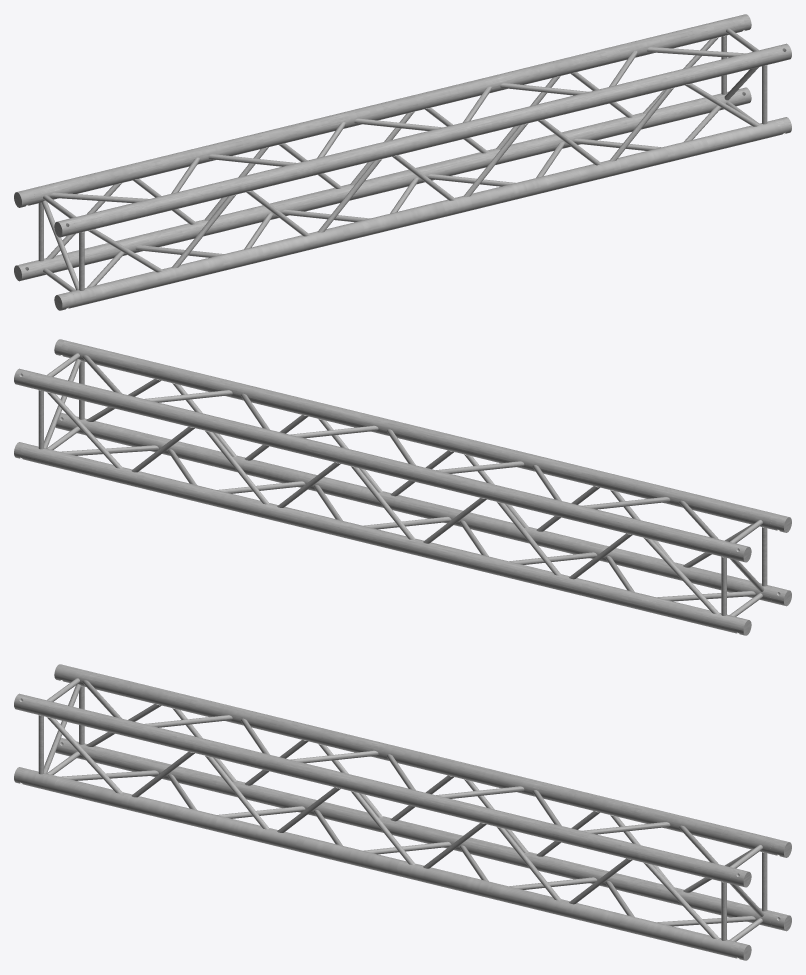
File: Milos_M290V_2500_Quattro_Truss_section-5ea367fc.glb
3 renders of one model, top to bottom at view 1: azimuth 30°, elevation 25°; view 2: azimuth 150°, elevation 25°; view 3: azimuth 330°, elevation 25°, orthographic.
Visible parts, largest first — view 1: Geom3D; view 2: Geom3D; view 3: Geom3D.
Boxes of the visible parts, box(x1,y1,x2,y2) form: Geom3D: box(14, 14, 791, 310); Geom3D: box(14, 339, 791, 635); Geom3D: box(14, 664, 791, 960).
Bounding box in the file's own units: 2.5 × 0.288 × 0.288.
Materials: 2 (1 with a texture image).
